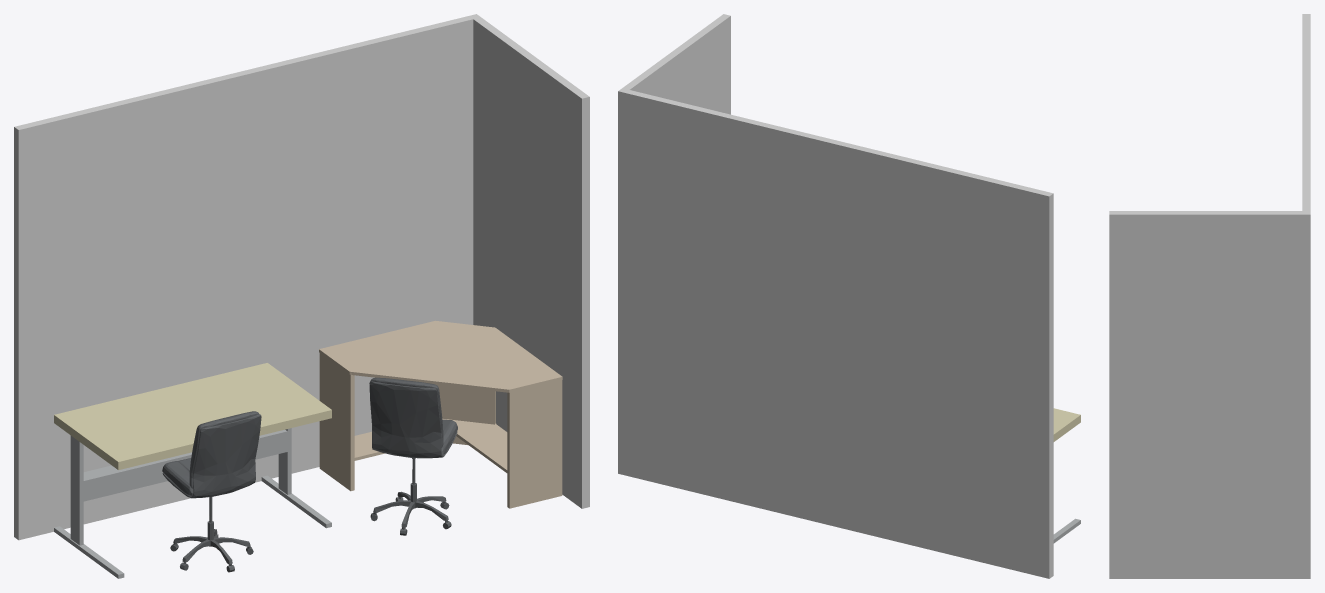
Rendered from room.glb.
3 views of the same model, side by side, from view 1: azimuth 30°, elevation 25°; view 2: azimuth 150°, elevation 25°; view 3: azimuth 270°, elevation 25° (orthographic). The views are drawn at different scales.
Visible parts, largest first — view 1: Mesh_Mesh_head_geo.001_lambert2SG.001; view 2: Mesh_Mesh_head_geo.001_lambert2SG.001; view 3: Mesh_Mesh_head_geo.001_lambert2SG.001.
Boxes of the visible parts, bbox=[...] form: Mesh_Mesh_head_geo.001_lambert2SG.001: bbox=[14, 14, 589, 578]; Mesh_Mesh_head_geo.001_lambert2SG.001: bbox=[618, 14, 1080, 578]; Mesh_Mesh_head_geo.001_lambert2SG.001: bbox=[1109, 14, 1310, 578].
Size of the model in its own units: 118 by 100 by 50.
